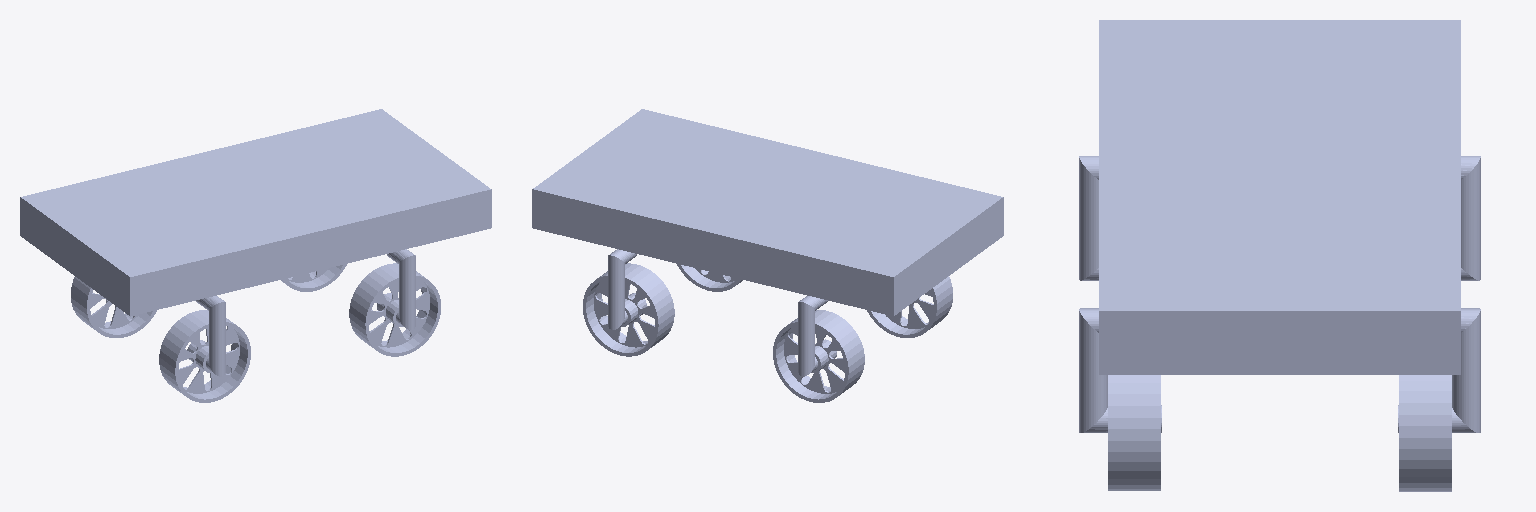
robot.urdf — batbat:
<?xml version="1.0" encoding="utf-8"?>
<!-- This URDF was automatically created by SolidWorks to URDF Exporter! Originally created by [author] ([email redacted]) 
     Commit Version: 1.6.0-4-g7f85cfe  Build Version: 1.6.7995.38578
     For more information, please see http://wiki.ros.org/sw_urdf_exporter -->
<robot
  name="batbat">
<link name="dummy_link">
  <pose>0 0 0 0 0 0</pose>
  </link>
  <joint name="dummy_joint" type="fixed">
    <parent
  	  link="dummy_link" />
    <child
      link="bat" />
    <origin
      xyz="0 0 0"
      rpy="0 0 0" />
    <axis
      xyz="0 0 0" />
  </joint>
  <link
    name="bat">
    <inertial>
      <origin
        xyz="-0.00486599634331379 -6.69841468503707E-18 0.324027623484238"
        rpy="0 0 0" />
      <mass
        value="50.7232439388311" />
      <inertia
        ixx="1.09055826124951"
        ixy="-3.35269528592248E-09"
        ixz="-3.3812326891182E-18"
        iyy="3.83396354011628"
        iyz="6.15284732885524E-18"
        izz="4.83272431412613" />
    </inertial>
    <visual>
      <origin
        xyz="0 0 0"
        rpy="0 0 0" />
      <geometry>
        <mesh
          filename="package://batbat/meshes/bat.STL" />
      </geometry>
      <material
        name="">
        <color
          rgba="0.792156862745098 0.819607843137255 0.933333333333333 1" />
      </material>
    </visual>
    <collision>
      <origin
        xyz="0 0 0"
        rpy="0 0 0" />
      <geometry>
        <mesh
          filename="package://batbat/meshes/bat.STL" />
      </geometry>
    </collision>
  </link>
  <link
    name="left_rear_wheel">
    <inertial>
      <origin
        xyz="1.66533453693773E-16 -8.32667268468867E-17 -0.0385"
        rpy="0 0 0" />
      <mass
        value="0.573286729576328" />
      <inertia
        ixx="0.00239463603464469"
        ixy="-7.27413290431382E-19"
        ixz="5.45949532263419E-19"
        iyy="0.0023946360346447"
        iyz="-2.06639055511541E-19"
        izz="0.00432457445366218" />
    </inertial>
    <visual>
      <origin
        xyz="0 0 0"
        rpy="0 0 0" />
      <geometry>
        <mesh
          filename="package://batbat/meshes/left_rear_wheel.STL" />
      </geometry>
      <material
        name="">
        <color
          rgba="0.792156862745098 0.819607843137255 0.933333333333333 1" />
      </material>
    </visual>
    <collision>
      <origin
        xyz="0 0 0"
        rpy="0 0 0" />
      <geometry>
        <mesh
          filename="package://batbat/meshes/left_rear_wheel.STL" />
      </geometry>
    </collision>
  </link>
  <joint
    name="left_rear_wheel_joint"
    type="continuous">
    <origin
      xyz="-0.254 0.166 0.1015"
      rpy="1.5707963267949 0 0" />
    <parent
      link="bat" />
    <child
      link="left_rear_wheel" />
    <axis
      xyz="0 0 -1" />
  </joint>
  <link
    name="right_rear_wheel">
    <inertial>
      <origin
        xyz="0 2.77555756156289E-17 -0.0385"
        rpy="0 0 0" />
      <mass
        value="0.573286729576328" />
      <inertia
        ixx="0.0023946360346447"
        ixy="1.64596017200982E-20"
        ixz="-2.10404479653222E-19"
        iyy="0.00239463603464469"
        iyz="4.09320571474671E-21"
        izz="0.00432457445366218" />
    </inertial>
    <visual>
      <origin
        xyz="0 0 0"
        rpy="0 0 0" />
      <geometry>
        <mesh
          filename="package://batbat/meshes/right_rear_wheel.STL" />
      </geometry>
      <material
        name="">
        <color
          rgba="0.792156862745098 0.819607843137255 0.933333333333333 1" />
      </material>
    </visual>
    <collision>
      <origin
        xyz="0 0 0"
        rpy="0 0 0" />
      <geometry>
        <mesh
          filename="package://batbat/meshes/right_rear_wheel.STL" />
      </geometry>
    </collision>
  </link>
  <joint
    name="right_rear_wheel_joint"
    type="continuous">
    <origin
      xyz="-0.254 -0.166 0.1015"
      rpy="-1.5707963267949 0 0" />
    <parent
      link="bat" />
    <child
      link="right_rear_wheel" />
    <axis
      xyz="0 0 1" />
  </joint>
  <link
    name="left_front_wheel">
    <inertial>
      <origin
        xyz="-5.68062037409334E-08 -0.0303204178096878 0.135651534929482"
        rpy="0 0 0" />
      <mass
        value="0.476285675559157" />
      <inertia
        ixx="0.00308338361390996"
        ixy="1.67634769313375E-09"
        ixz="-1.85092014262691E-09"
        iyy="0.00267628266798719"
        iyz="0.000153347484245119"
        izz="0.000502340348058678" />
    </inertial>
    <visual>
      <origin
        xyz="0 0 0"
        rpy="0 0 0" />
      <geometry>
        <mesh
          filename="package://batbat/meshes/left_front_wheel.STL" />
      </geometry>
      <material
        name="">
        <color
          rgba="0.792156862745098 0.819607843137255 0.933333333333333 1" />
      </material>
    </visual>
    <collision>
      <origin
        xyz="0 0 0"
        rpy="0 0 0" />
      <geometry>
        <mesh
          filename="package://batbat/meshes/left_front_wheel.STL" />
      </geometry>
    </collision>
  </link>
  <joint
    name="left_front_wheel_joint"
    type="revolute">
    <origin
      xyz="0.254 0.204 0.3265"
      rpy="3.14159265358979 0 0" />
    <parent
      link="bat" />
    <child
      link="left_front_wheel" />
    <axis
      xyz="0 0 1" />
    <limit
      lower="-3"
      upper="3"
      effort="10"
      velocity="100" />
  </joint>
  <link
    name="left_roll">
    <inertial>
      <origin
        xyz="-5.55111512312578E-17 0 -0.0385"
        rpy="0 0 0" />
      <mass
        value="0.573286729576329" />
      <inertia
        ixx="0.0023946360346447"
        ixy="2.38767751764967E-20"
        ixz="5.17032334026986E-19"
        iyy="0.0023946360346447"
        iyz="-2.92576549499483E-19"
        izz="0.00432457445366219" />
    </inertial>
    <visual>
      <origin
        xyz="0 0 0"
        rpy="0 0 0" />
      <geometry>
        <mesh
          filename="package://batbat/meshes/left_roll.STL" />
      </geometry>
      <material
        name="">
        <color
          rgba="0.792156862745098 0.819607843137255 0.933333333333333 1" />
      </material>
    </visual>
    <collision>
      <origin
        xyz="0 0 0"
        rpy="0 0 0" />
      <geometry>
        <mesh
          filename="package://batbat/meshes/left_roll.STL" />
      </geometry>
    </collision>
  </link>
  <joint
    name="left_roll_joint"
    type="continuous">
    <origin
      xyz="0 0.038 0.225"
      rpy="-1.5707963267949 0 0" />
    <parent
      link="left_front_wheel" />
    <child
      link="left_roll" />
    <axis
      xyz="0 0 -1" />
  </joint>
  <link
    name="right_front_wheel">
    <inertial>
      <origin
        xyz="5.68062039074668E-08 0.0303204178096884 0.135651534929482"
        rpy="0 0 0" />
      <mass
        value="0.476285675559157" />
      <inertia
        ixx="0.00308338361390996"
        ixy="1.67634769328428E-09"
        ixz="1.85092014321466E-09"
        iyy="0.0026762826679872"
        iyz="-0.000153347484245121"
        izz="0.000502340348058678" />
    </inertial>
    <visual>
      <origin
        xyz="0 0 0"
        rpy="0 0 0" />
      <geometry>
        <mesh
          filename="package://batbat/meshes/right_front_wheel.STL" />
      </geometry>
      <material
        name="">
        <color
          rgba="0.792156862745098 0.819607843137255 0.933333333333333 1" />
      </material>
    </visual>
    <collision>
      <origin
        xyz="0 0 0"
        rpy="0 0 0" />
      <geometry>
        <mesh
          filename="package://batbat/meshes/right_front_wheel.STL" />
      </geometry>
    </collision>
  </link>
  <joint
    name="right_front_wheel_joint"
    type="revolute">
    <origin
      xyz="0.254 -0.203999999999999 0.3265"
      rpy="3.14159265358979 0 0" />
    <parent
      link="bat" />
    <child
      link="right_front_wheel" />
    <axis
      xyz="0 0 1" />
    <limit
      lower="-3"
      upper="3"
      effort="10"
      velocity="100" />
  </joint>
  <link
    name="right_roll">
    <inertial>
      <origin
        xyz="0 -5.55111512312578E-17 -0.0384999999999997"
        rpy="0 0 0" />
      <mass
        value="0.573286729576328" />
      <inertia
        ixx="0.0023946360346447"
        ixy="1.07472378557313E-18"
        ixz="2.45111503531771E-19"
        iyy="0.00239463603464469"
        iyz="5.1029475068558E-20"
        izz="0.00432457445366218" />
    </inertial>
    <visual>
      <origin
        xyz="0 0 0"
        rpy="0 0 0" />
      <geometry>
        <mesh
          filename="package://batbat/meshes/right_roll.STL" />
      </geometry>
      <material
        name="">
        <color
          rgba="0.792156862745098 0.819607843137255 0.933333333333333 1" />
      </material>
    </visual>
    <collision>
      <origin
        xyz="0 0 0"
        rpy="0 0 0" />
      <geometry>
        <mesh
          filename="package://batbat/meshes/right_roll.STL" />
      </geometry>
    </collision>
  </link>
  <joint
    name="right_roll_joint"
    type="continuous">
    <origin
      xyz="0 -0.0379999999999993 0.225"
      rpy="-1.5707963267949 0 3.14159265358979" />
    <parent
      link="right_front_wheel" />
    <child
      link="right_roll" />
    <axis
      xyz="0 0 -1" />
  </joint>
<transmission name="rear_motor_left">
    <type>transmission_interface/SimpleTransmission</type>
    <joint name="left_rear_wheel_joint">
      <hardwareInterface>hardware_interface/VelocityJointInterface</hardwareInterface>
    </joint>
    <actuator name="rear_motor_left">
      <mechanicalReduction>100</mechanicalReduction>
      <hardwareInterface>hardware_interface/VelocityJointInterface</hardwareInterface>
    </actuator>
  </transmission>
  <transmission name="rear_motor_right">
    <type>transmission_interface/SimpleTransmission</type>
    <joint name="right_rear_wheel_joint">
      <hardwareInterface>hardware_interface/VelocityJointInterface</hardwareInterface>
    </joint>
    <actuator name="rear_motor_right">
      <mechanicalReduction>100</mechanicalReduction>
      <hardwareInterface>hardware_interface/VelocityJointInterface</hardwareInterface>
    </actuator>
  </transmission>
  <transmission name="front_motor_right">
    <type>transmission_interface/SimpleTransmission</type>
    <joint name="right_front_wheel_joint">
      <hardwareInterface>hardware_interface/EffortJointInterface</hardwareInterface>
    </joint>
    <actuator name="front_motor_right">
      <mechanicalReduction>50</mechanicalReduction>
      <hardwareInterface>hardware_interface/EffortJointInterface</hardwareInterface>
    </actuator>
  </transmission>
  <transmission name="front_motor_left">
    <type>transmission_interface/SimpleTransmission</type>
    <joint name="left_front_wheel_joint">
      <hardwareInterface>hardware_interface/EffortJointInterface</hardwareInterface>
    </joint>
    <actuator name="front_motor_left">
      <mechanicalReduction>50</mechanicalReduction>
      <hardwareInterface>hardware_interface/EffortJointInterface</hardwareInterface>
    </actuator>
  </transmission>
</robot>

--- Render facts (derived) ---
3 views of the same robot in one strip: view 1: azimuth 30°, elevation 25°; view 2: azimuth 150°, elevation 25°; view 3: azimuth 270°, elevation 25° (orthographic).
Model batbat with 8 links and 7 joints (2 revolute, 4 continuous, 1 fixed), rooted at dummy_link, posed all joints at 0.
Visible links, largest first — view 1: bat, right_roll, right_rear_wheel, left_rear_wheel, right_front_wheel, left_roll; view 2: bat, left_rear_wheel, left_roll, right_rear_wheel, left_front_wheel, right_roll; view 3: bat, left_roll, right_roll, left_front_wheel, right_front_wheel.
Boxes of the visible links, x1=… form: bat: x1=20, y1=109, x2=491, y2=376; right_roll: x1=349, y1=263, x2=440, y2=356; right_rear_wheel: x1=159, y1=310, x2=250, y2=402; left_rear_wheel: x1=71, y1=277, x2=156, y2=337; right_front_wheel: x1=387, y1=249, x2=415, y2=329; left_roll: x1=281, y1=264, x2=346, y2=291; bat: x1=532, y1=109, x2=1003, y2=376; left_rear_wheel: x1=773, y1=310, x2=864, y2=402; left_roll: x1=583, y1=263, x2=674, y2=356; right_rear_wheel: x1=867, y1=276, x2=952, y2=337; left_front_wheel: x1=608, y1=249, x2=636, y2=329; right_roll: x1=677, y1=264, x2=742, y2=291; bat: x1=1079, y1=20, x2=1480, y2=374; left_roll: x1=1399, y1=375, x2=1451, y2=491; right_roll: x1=1108, y1=375, x2=1160, y2=490; left_front_wheel: x1=1398, y1=308, x2=1480, y2=432; right_front_wheel: x1=1079, y1=308, x2=1161, y2=432.
Bounding box of the posed robot: 0.965 × 0.564 × 0.3765 m (x, y, z).
Meshes: 7 distinct files referenced, 7 mesh visuals loaded (7 binary STL).